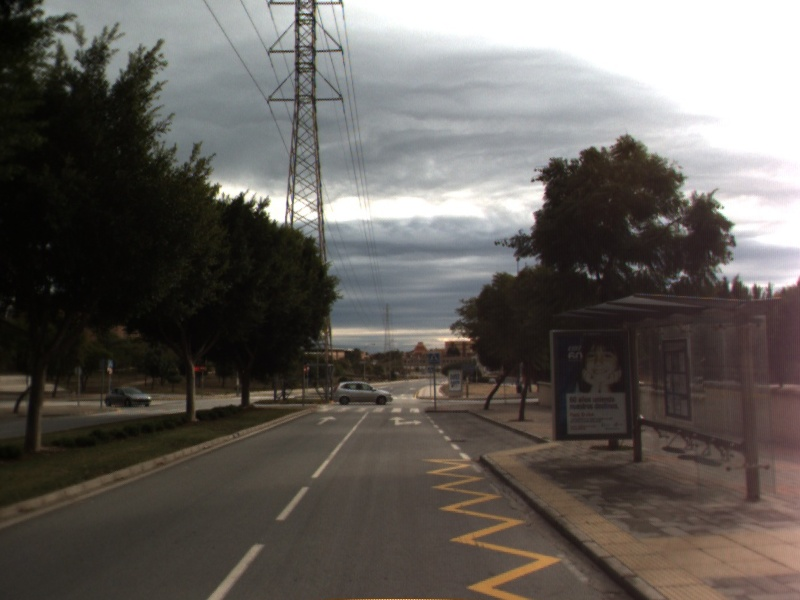STRAIGHT: (314, 414, 338, 427)
STRAIGHT_RIGHT: (387, 414, 425, 427)
